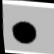correct: (7, 18, 41, 47)
